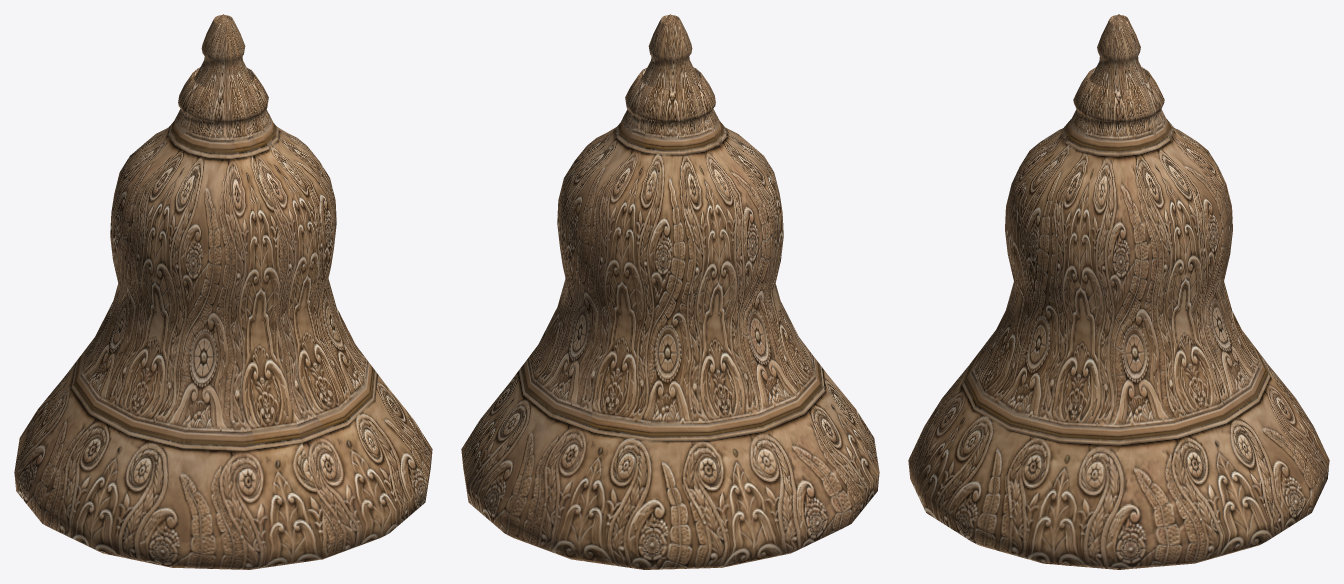
The model's file is bell.fbx.
The picture shows the model from 3 angles, left to right: view 1: azimuth 30°, elevation 25°; view 2: azimuth 150°, elevation 25°; view 3: azimuth 270°, elevation 25°; orthographic projection.
Visible parts, largest first — view 1: BezierCurve; view 2: BezierCurve; view 3: BezierCurve.
Boxes of the visible parts, x1=… form: BezierCurve: x1=14, y1=14, x2=432, y2=569; BezierCurve: x1=461, y1=14, x2=879, y2=569; BezierCurve: x1=908, y1=14, x2=1329, y2=569.
Bounding box in the file's own units: 654 × 809 × 654.
